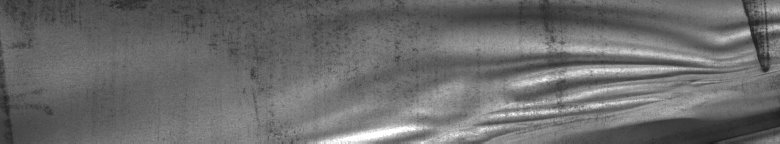ke: (343, 4, 776, 136)
